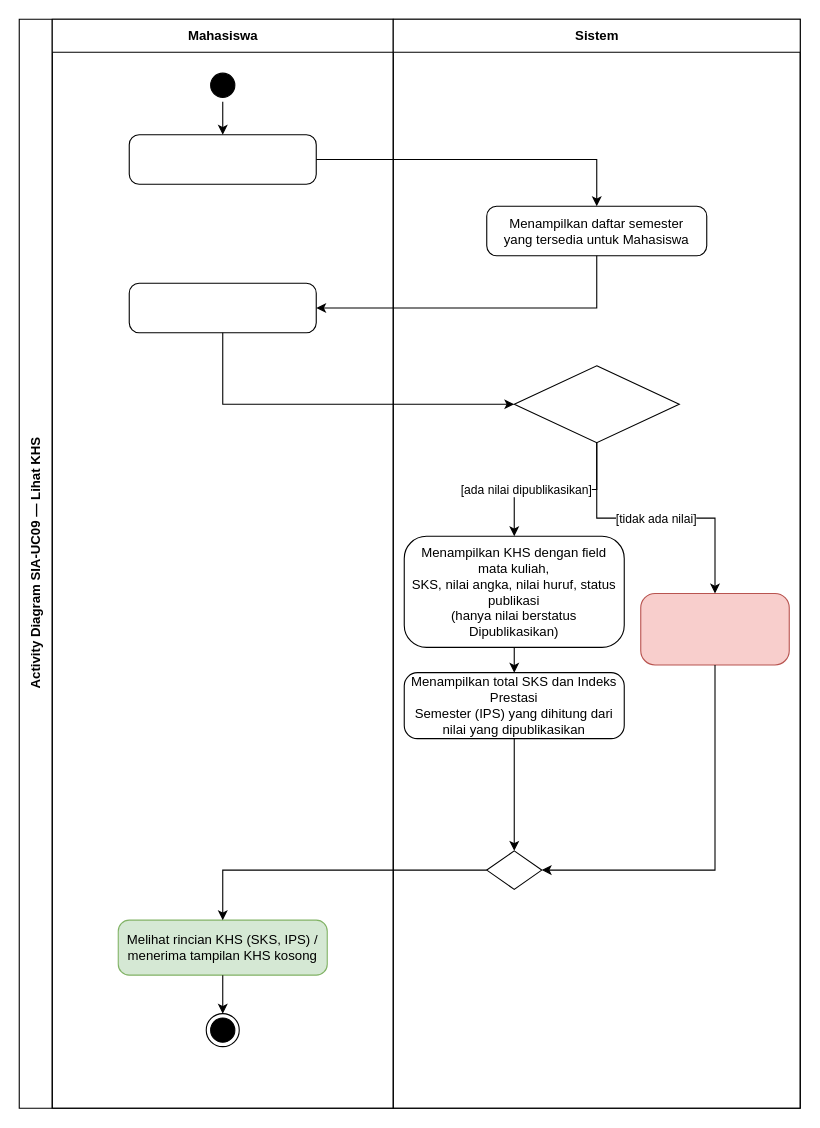
Image size: 820x1128. Some labels were removed from this diagram. Each missing label, with the centre of its shape:
Ada nilai berstatus "Dipublikasikan"?: the point at 596,404
Membuka fungsi Lihat KHS: the point at 222,159
Memilih semester: the point at 222,307
Menampilkan pesan belum ada nilai yang dipublikasikan & KHS kosong: the point at 714,628
